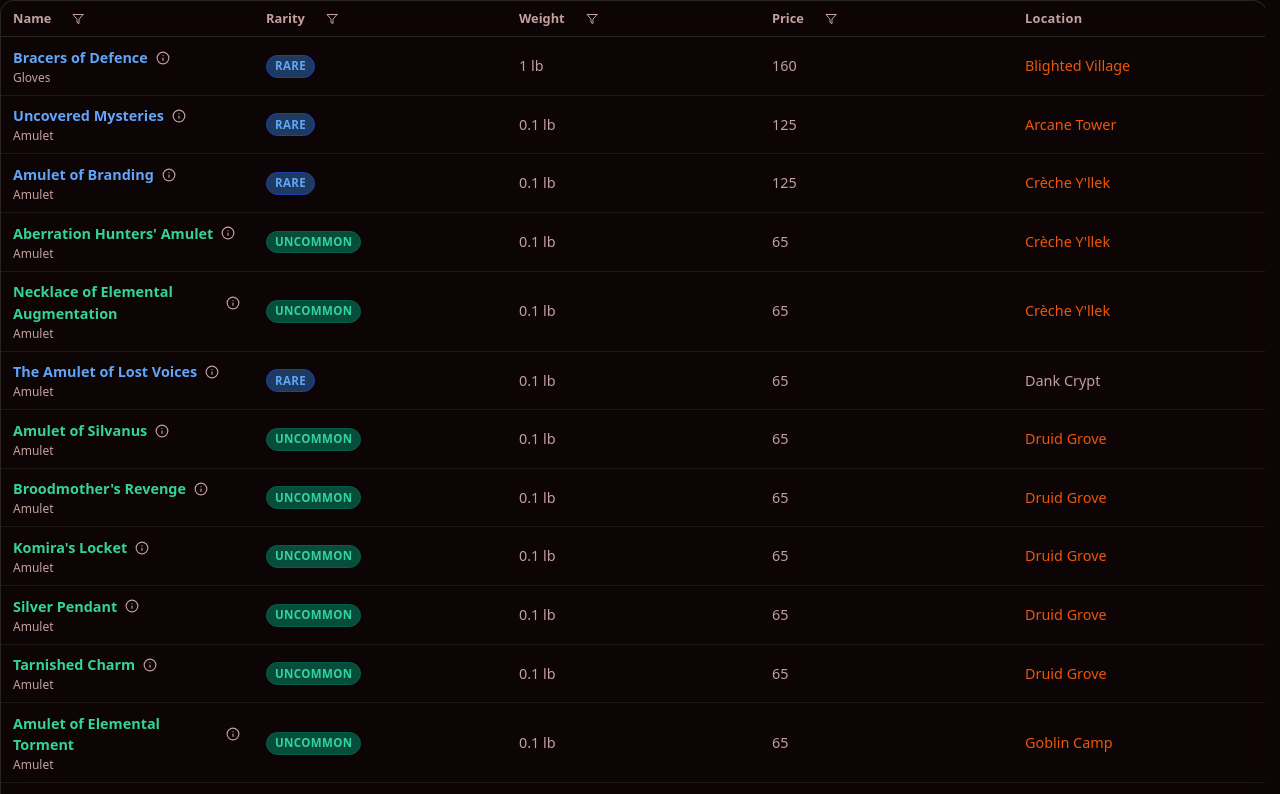
ActItemsTable › renders act items and filters them by name
The width and height of the screenshot is (1280, 794).
# Open the name filter popover and type a query.
Click the button named "Filter by name".
click(78, 19)  # box x1=72 y1=13 x2=84 y2=25
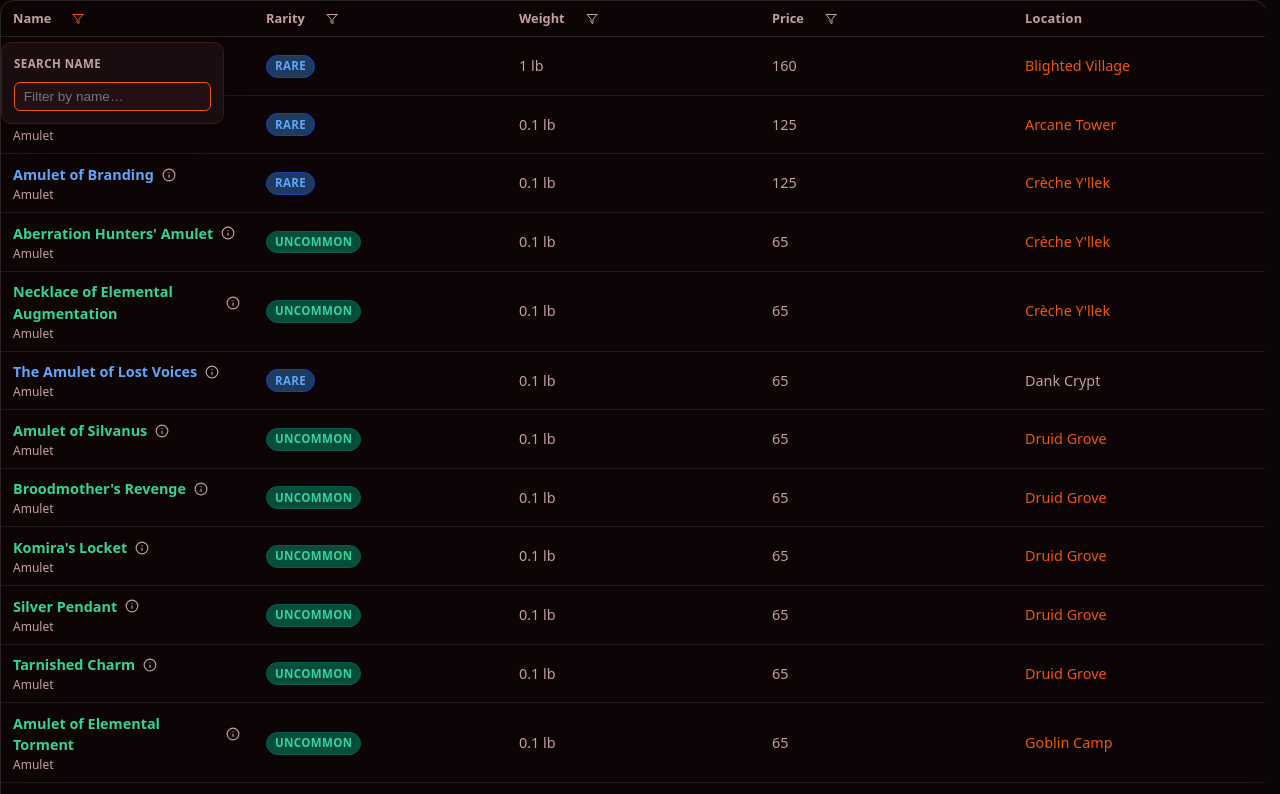
Type "Bracers" into the field with id "filter-name".
click(112, 96); type("Bracers")  # box x1=14 y1=82 x2=211 y2=111
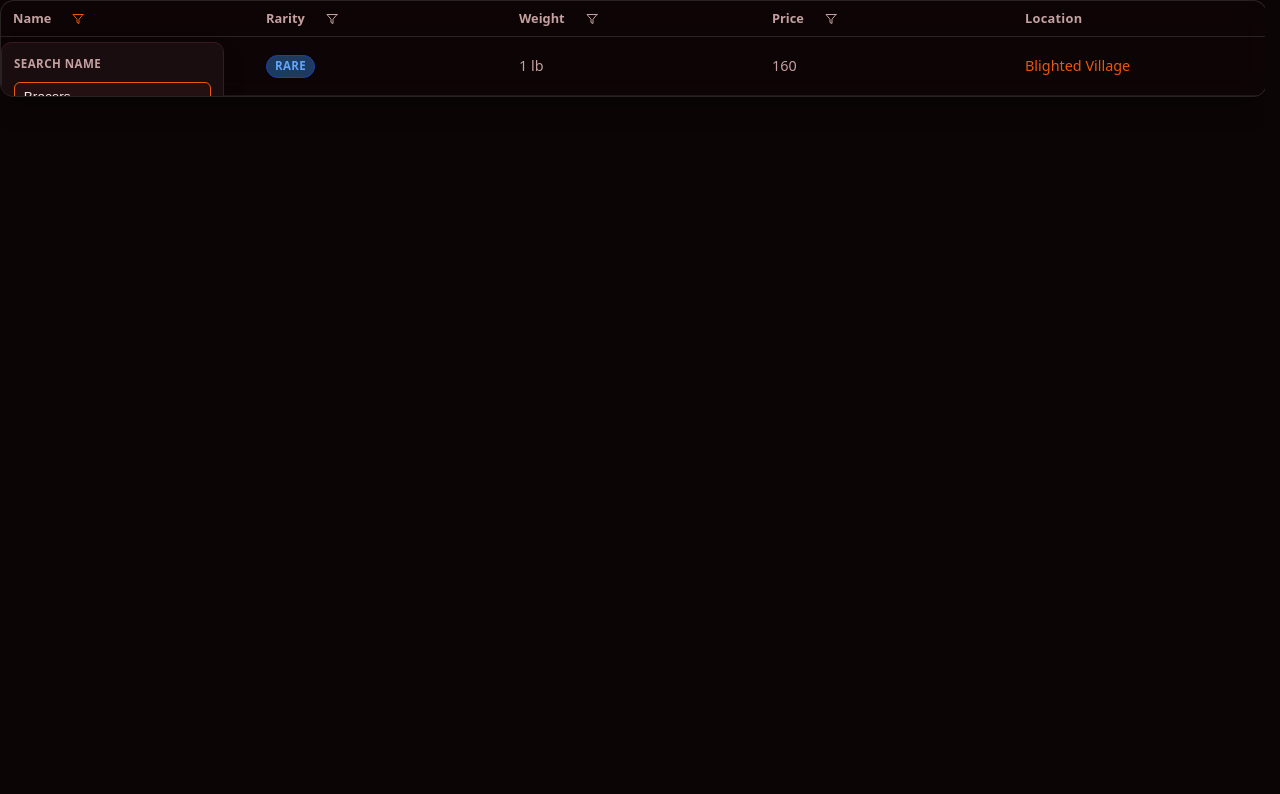
expect the text "Bracers of Defence" is shown: met, box x1=13 y1=47 x2=148 y2=68
expect the text "Uncovered Mysteries" is gone: met
